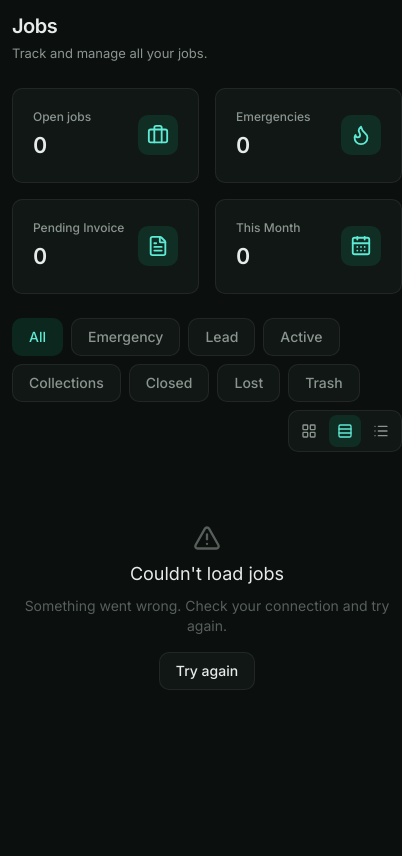
Test: Jobs page — error state (§8 DoD, #914) › recovers to the list when the retry succeeds
This screenshot has width=402, height=856.
Expected: the element with test id "jobs-error" is shown, [12,476,401,738]
Click the button "Try again" at [207, 670], box [159,652,255,690]
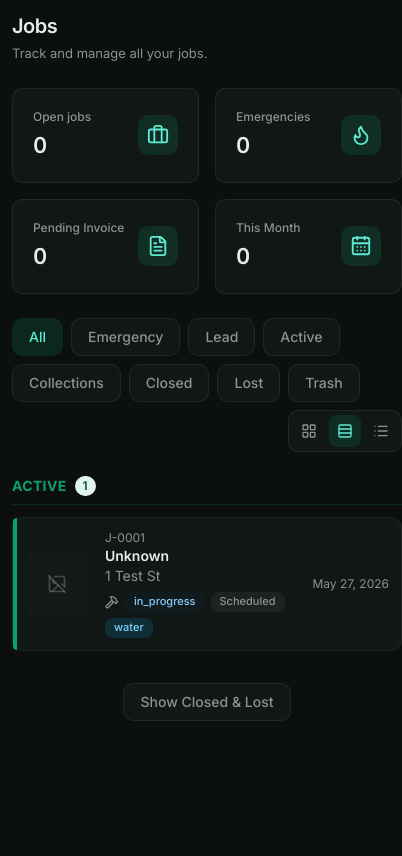
Expected: the element with test id "section-in_progress" is shown, [12,476,401,650]
Expected: the element with test id "jobs-error" is gone
